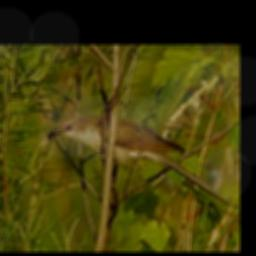Cuckoo: (47, 116, 231, 206)
